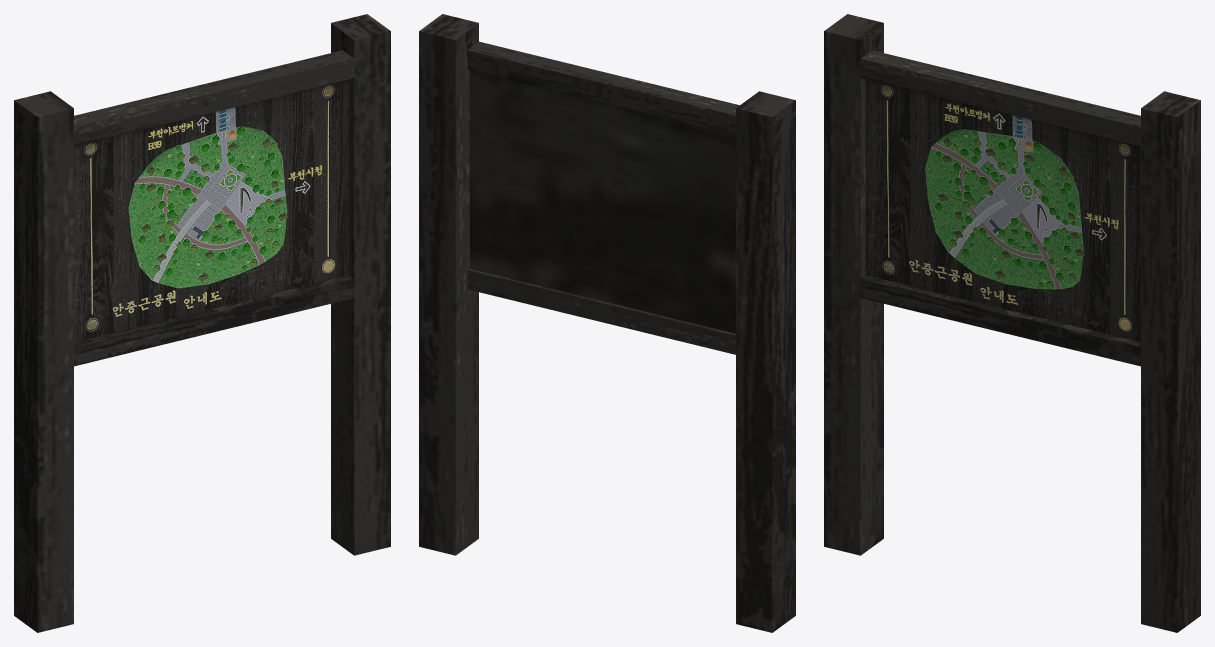
File: information.fbx
The picture shows the model from 3 angles, left to right: view 1: azimuth 30°, elevation 25°; view 2: azimuth 150°, elevation 25°; view 3: azimuth 330°, elevation 25°; orthographic projection.
Visible parts, largest first — view 1: information; view 2: information; view 3: information.
Boxes of the visible parts, bbox=[...] form: information: bbox=[14, 14, 390, 632]; information: bbox=[419, 14, 795, 632]; information: bbox=[824, 14, 1200, 632].
Bounding box in the file's own units: 130 × 181 × 14.9.
